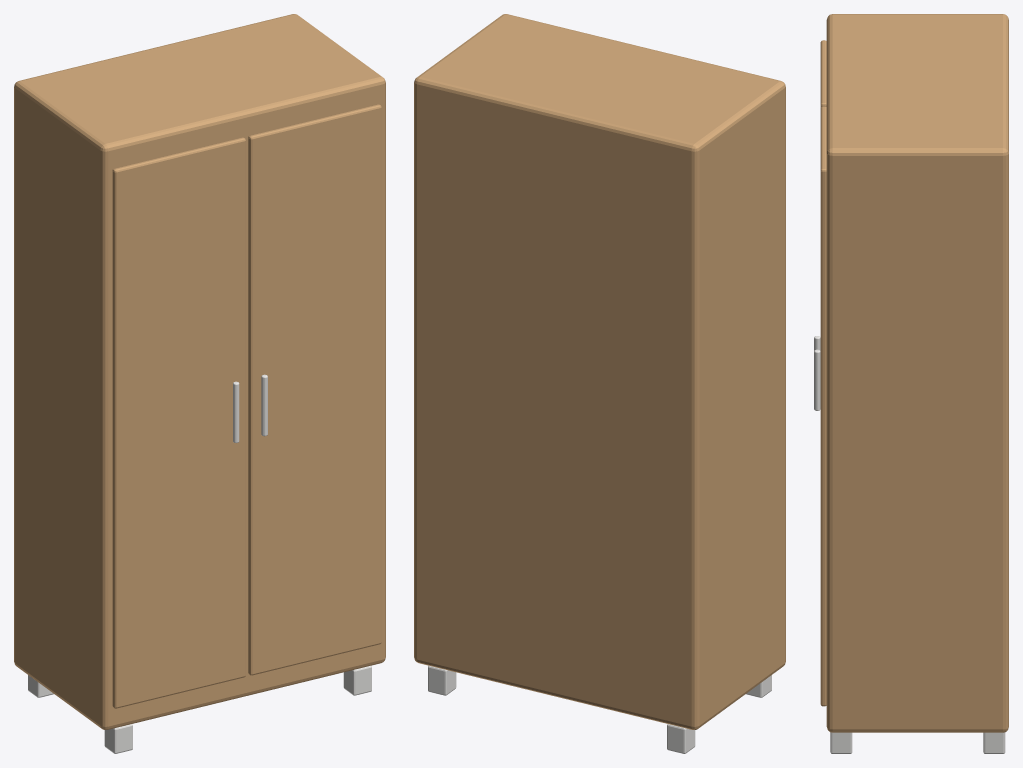
The model's file is office_storage___organization_asset_sheet_18.glb.
3 views of the same model, side by side, from view 1: azimuth 30°, elevation 25°; view 2: azimuth 150°, elevation 25°; view 3: azimuth 270°, elevation 25° (orthographic).
Parts seen in each view (by area): view 1: Cube; view 2: Cube; view 3: Cube.
Boxes of the visible parts, x1,y1,x2,y2 form: Cube: [14, 14, 385, 753]; Cube: [414, 14, 785, 753]; Cube: [814, 14, 1008, 753].
Bounding box in the file's own units: 0.9 × 1.85 × 0.535.
